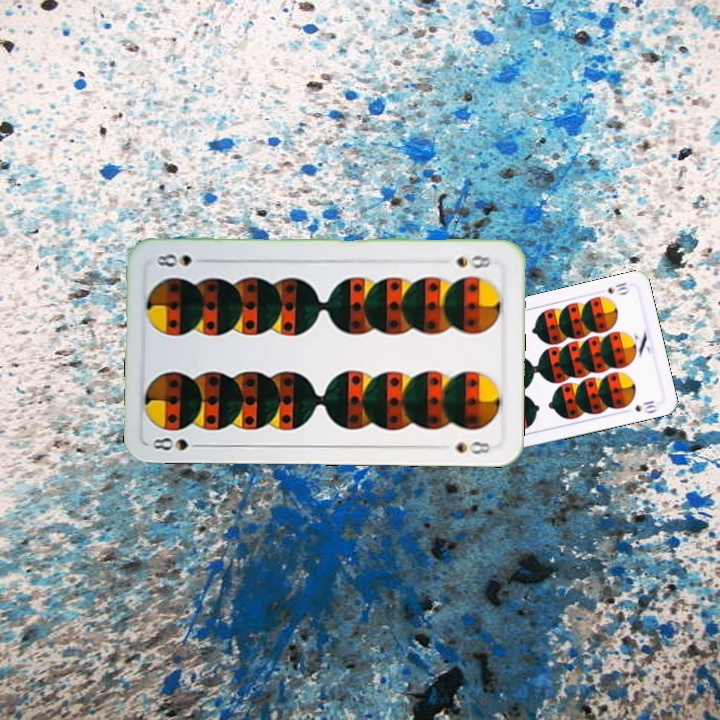S10: (604, 278, 632, 298)
S8: (148, 432, 207, 453), (453, 251, 494, 271)
